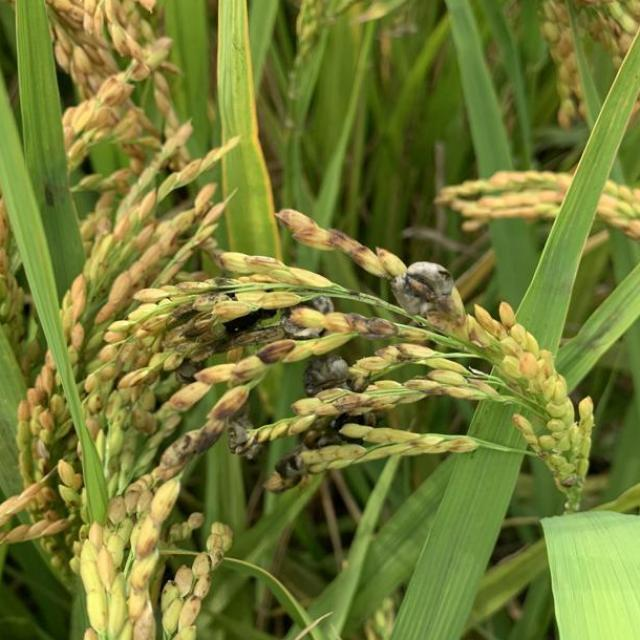Leaf_Scald: (301, 358, 377, 446), (391, 258, 455, 320), (279, 290, 334, 341), (224, 414, 263, 461)
